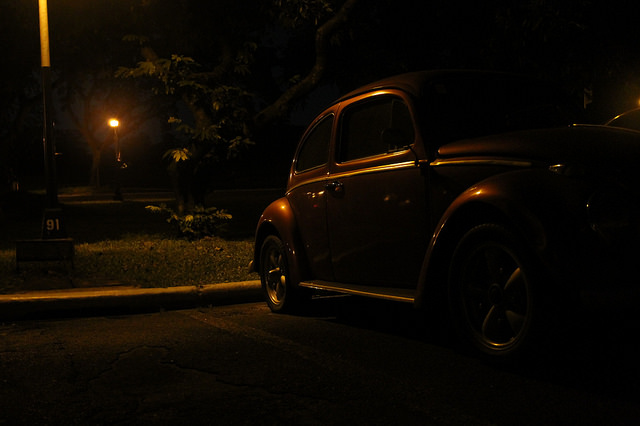car: (249, 51, 638, 374)
